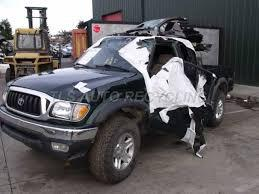fender-dent: (94, 79, 153, 109)
